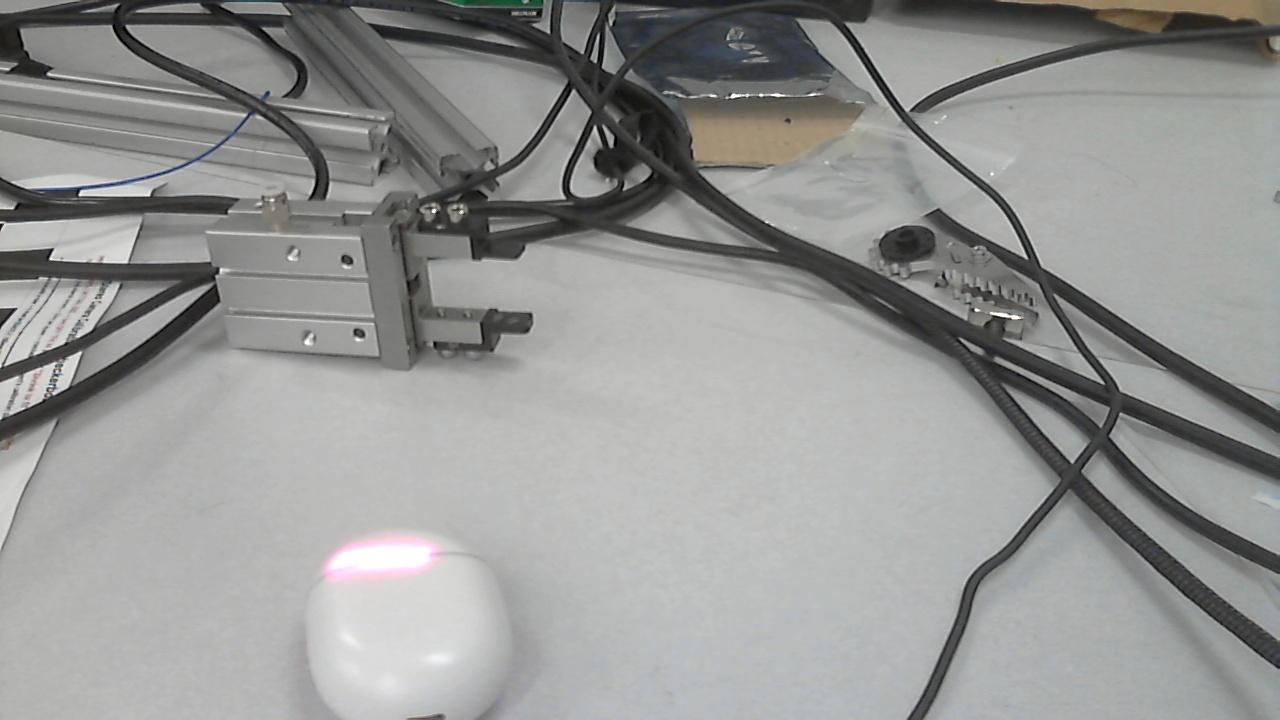Object wireless earbud charging case - Material plastic - Pdfname qzJIPQkli2jB: (309, 533, 454, 590)
